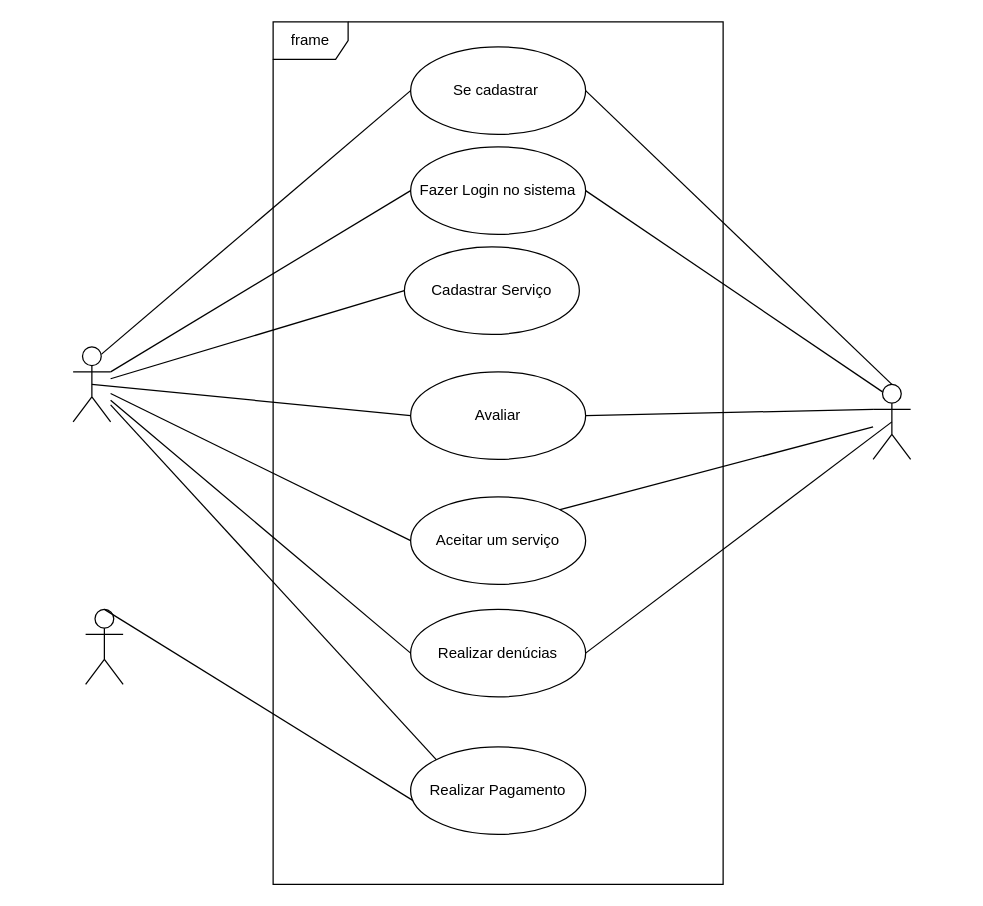
Image size: 983x906. Some labels were removed from this diagram. The centre of each missing label's shape, as x and y in pixels:
Prestador de Serviço: point 891,421
Requisitor de serviço: point 91,384
Sistema de Pagamento: point 103,646
